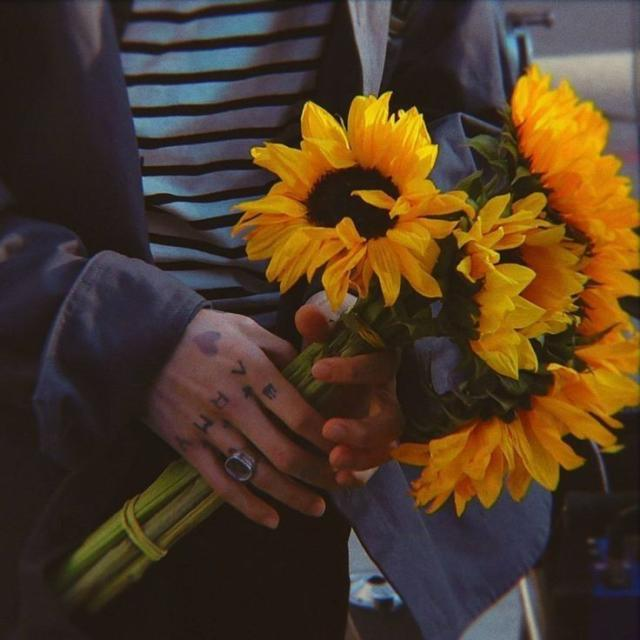sunflower: (228, 90, 472, 312), (389, 336, 640, 516), (453, 191, 588, 379), (511, 64, 640, 230), (575, 230, 640, 372)
